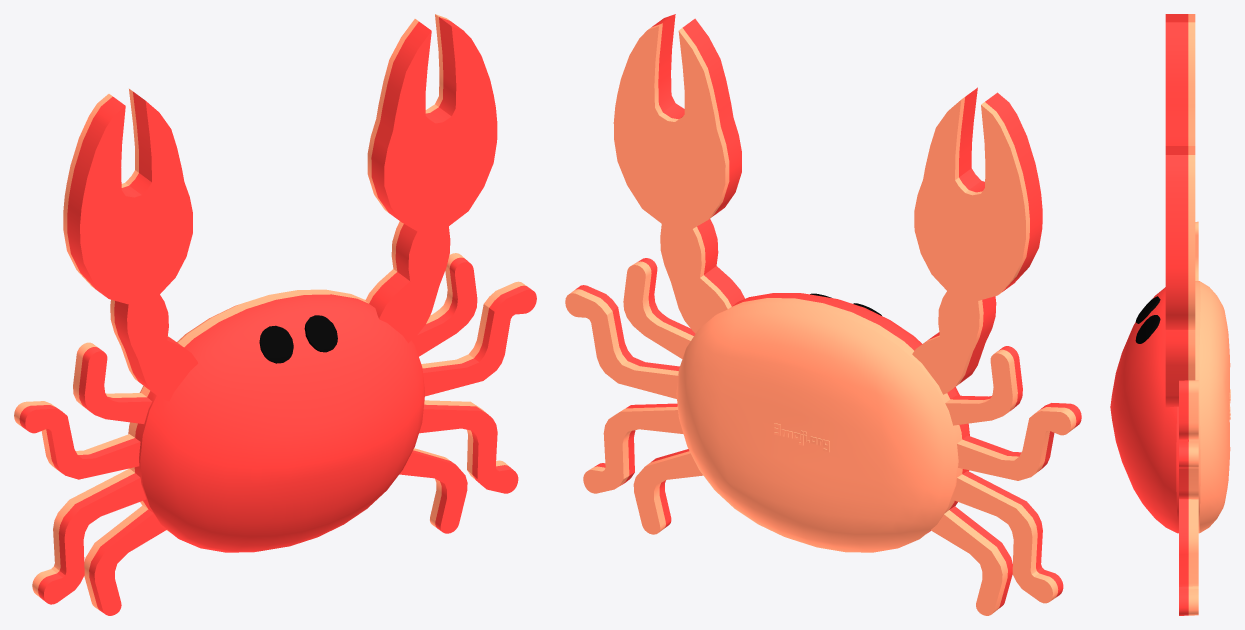
The model's file is crab.glb.
3 renders of one model, left to right at view 1: azimuth 30°, elevation 25°; view 2: azimuth 150°, elevation 25°; view 3: azimuth 270°, elevation 25°, orthographic. The views are drawn at different scales.
Visible parts, largest first — view 1: Cube.182; view 2: Cube.182; view 3: Cube.182.
Part boxes in pixels (box(x1,y1,x2,y2)): Cube.182: box(14, 14, 536, 615); Cube.182: box(565, 14, 1081, 615); Cube.182: box(1110, 14, 1230, 615).
Bounding box in the file's own units: 1.97 × 1.9 × 0.4536.
Materials: 1 (1 with a texture image).
